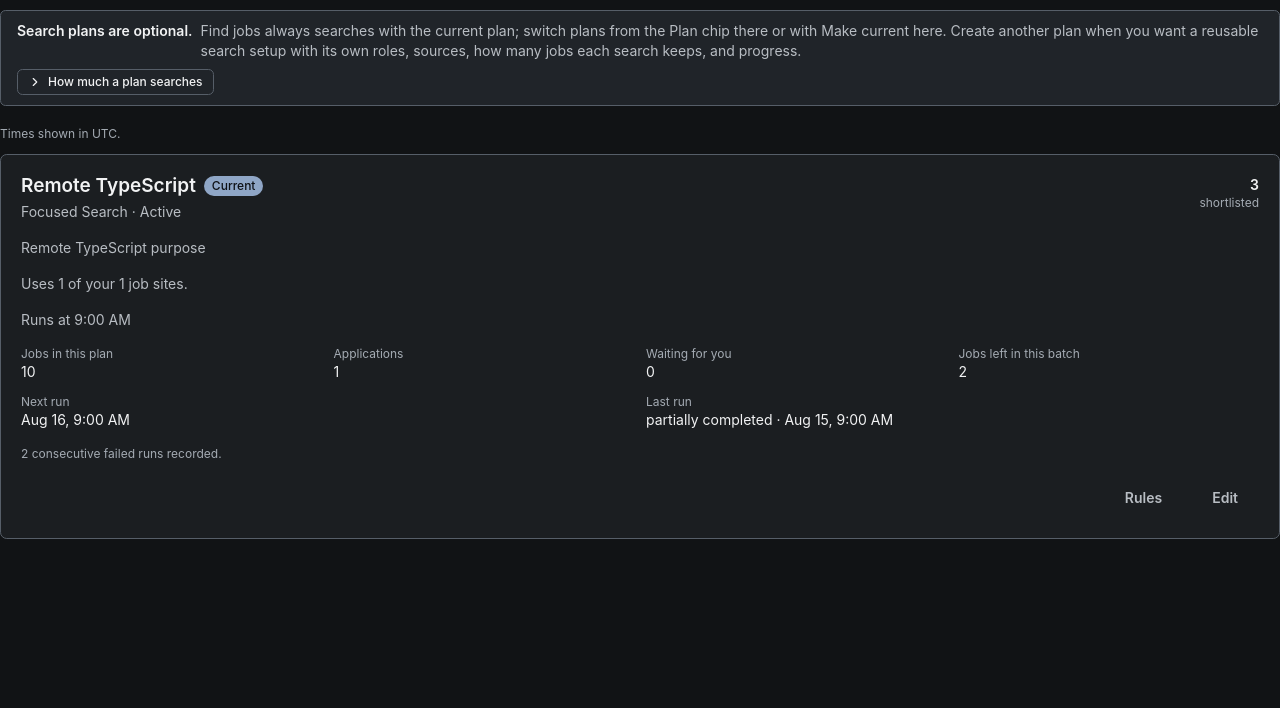
it: CampaignsScreen › shows truthful next-run and last-run facts from persisted run facts
Expected: the text "Next run" is shown, [21, 394, 70, 409]
Expected: the text "Runs at 9:00 AM" is shown, [21, 311, 131, 328]
Click the button "Edit" at coordinates (1225, 498), box [1191, 478, 1259, 518]
(page scrolled)
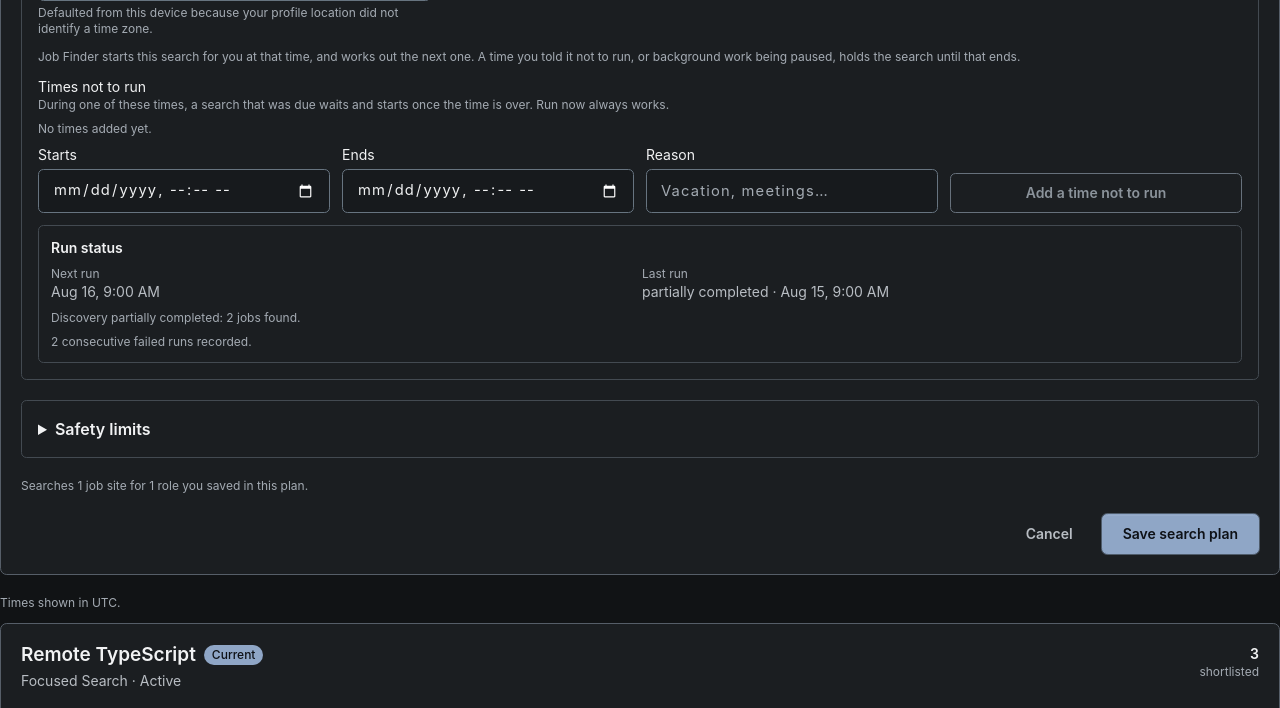
Expected: the text "Discovery partially completed: 2 jobs found." is shown, [51, 310, 300, 325]
